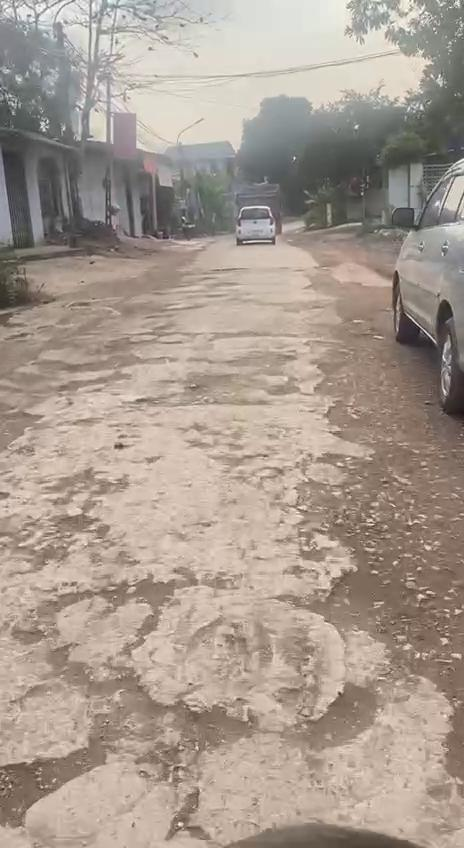pothole: (13, 614, 253, 772), (275, 526, 437, 686), (34, 569, 204, 655), (0, 467, 123, 571), (0, 742, 113, 834), (134, 350, 292, 410), (291, 682, 384, 760), (288, 447, 360, 528)
